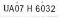character: (26, 4, 32, 13), (50, 4, 56, 13), (3, 4, 9, 12), (8, 4, 14, 12), (18, 3, 23, 12), (14, 4, 19, 12), (35, 4, 40, 12), (40, 4, 45, 12), (45, 4, 50, 12)
